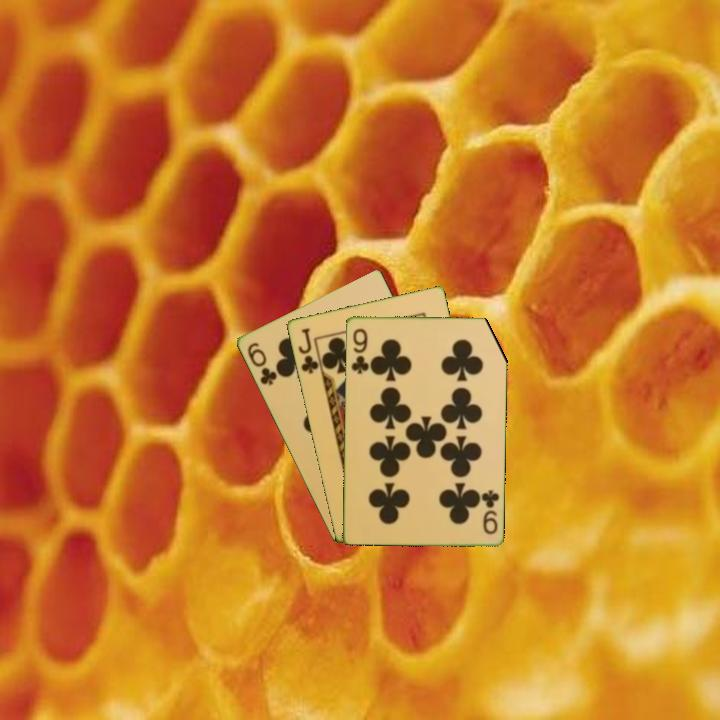6c: (243, 339, 279, 388)
9c: (347, 325, 371, 376), (478, 486, 502, 537)
Jc: (294, 324, 321, 376)
